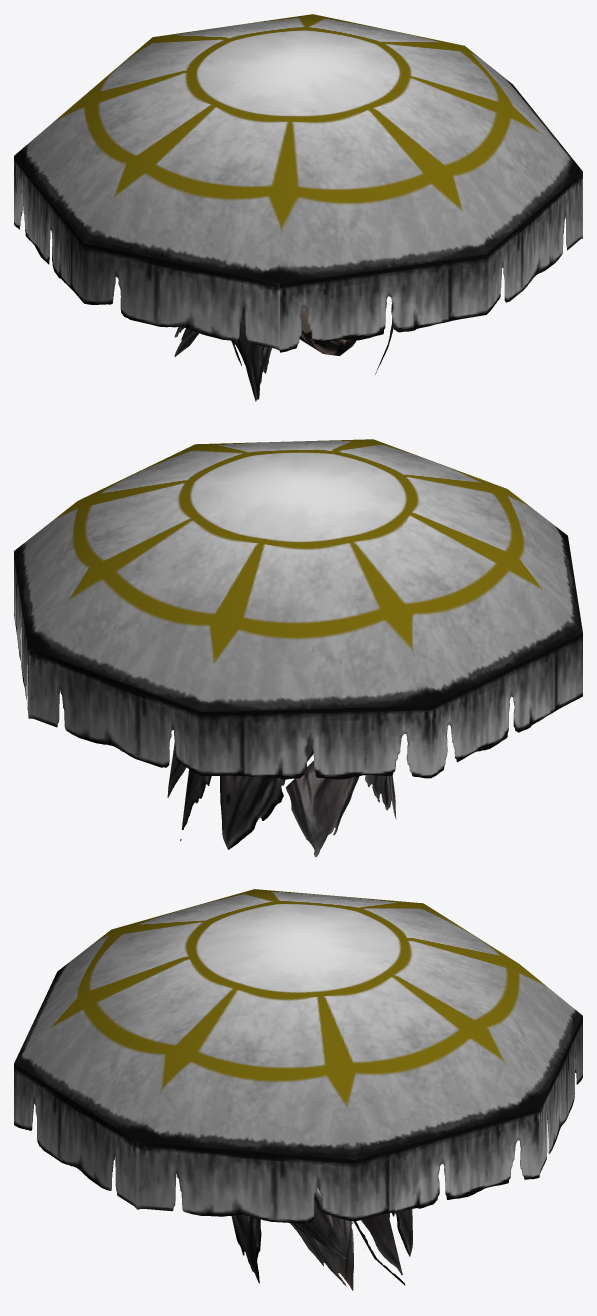
Rendered from CH_Aka_Monk_F_Head01.FBX.
The picture shows the model from 3 angles, top to bottom: view 1: azimuth 30°, elevation 25°; view 2: azimuth 150°, elevation 25°; view 3: azimuth 270°, elevation 25°; orthographic projection. The views are drawn at different scales.
Parts seen in each view (by area): view 1: CH_Aka_Monk_F_Head01; view 2: CH_Aka_Monk_F_Head01; view 3: CH_Aka_Monk_F_Head01.
Part boxes in pixels (x1,y1,x2,y2): CH_Aka_Monk_F_Head01: (14, 14, 582, 401); CH_Aka_Monk_F_Head01: (14, 439, 582, 856); CH_Aka_Monk_F_Head01: (14, 889, 582, 1290).
Size of the model in its own units: 68.92 by 43.89 by 68.92.
1 material, 1 textured.
